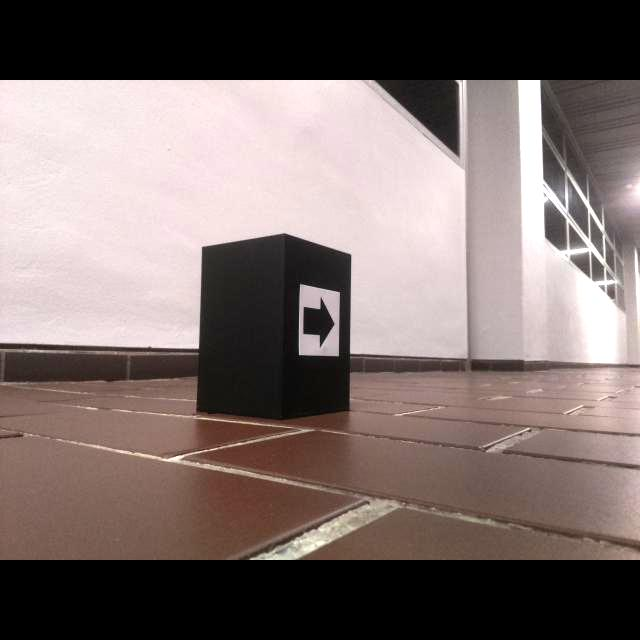RIGHT: (302, 297, 335, 349)
